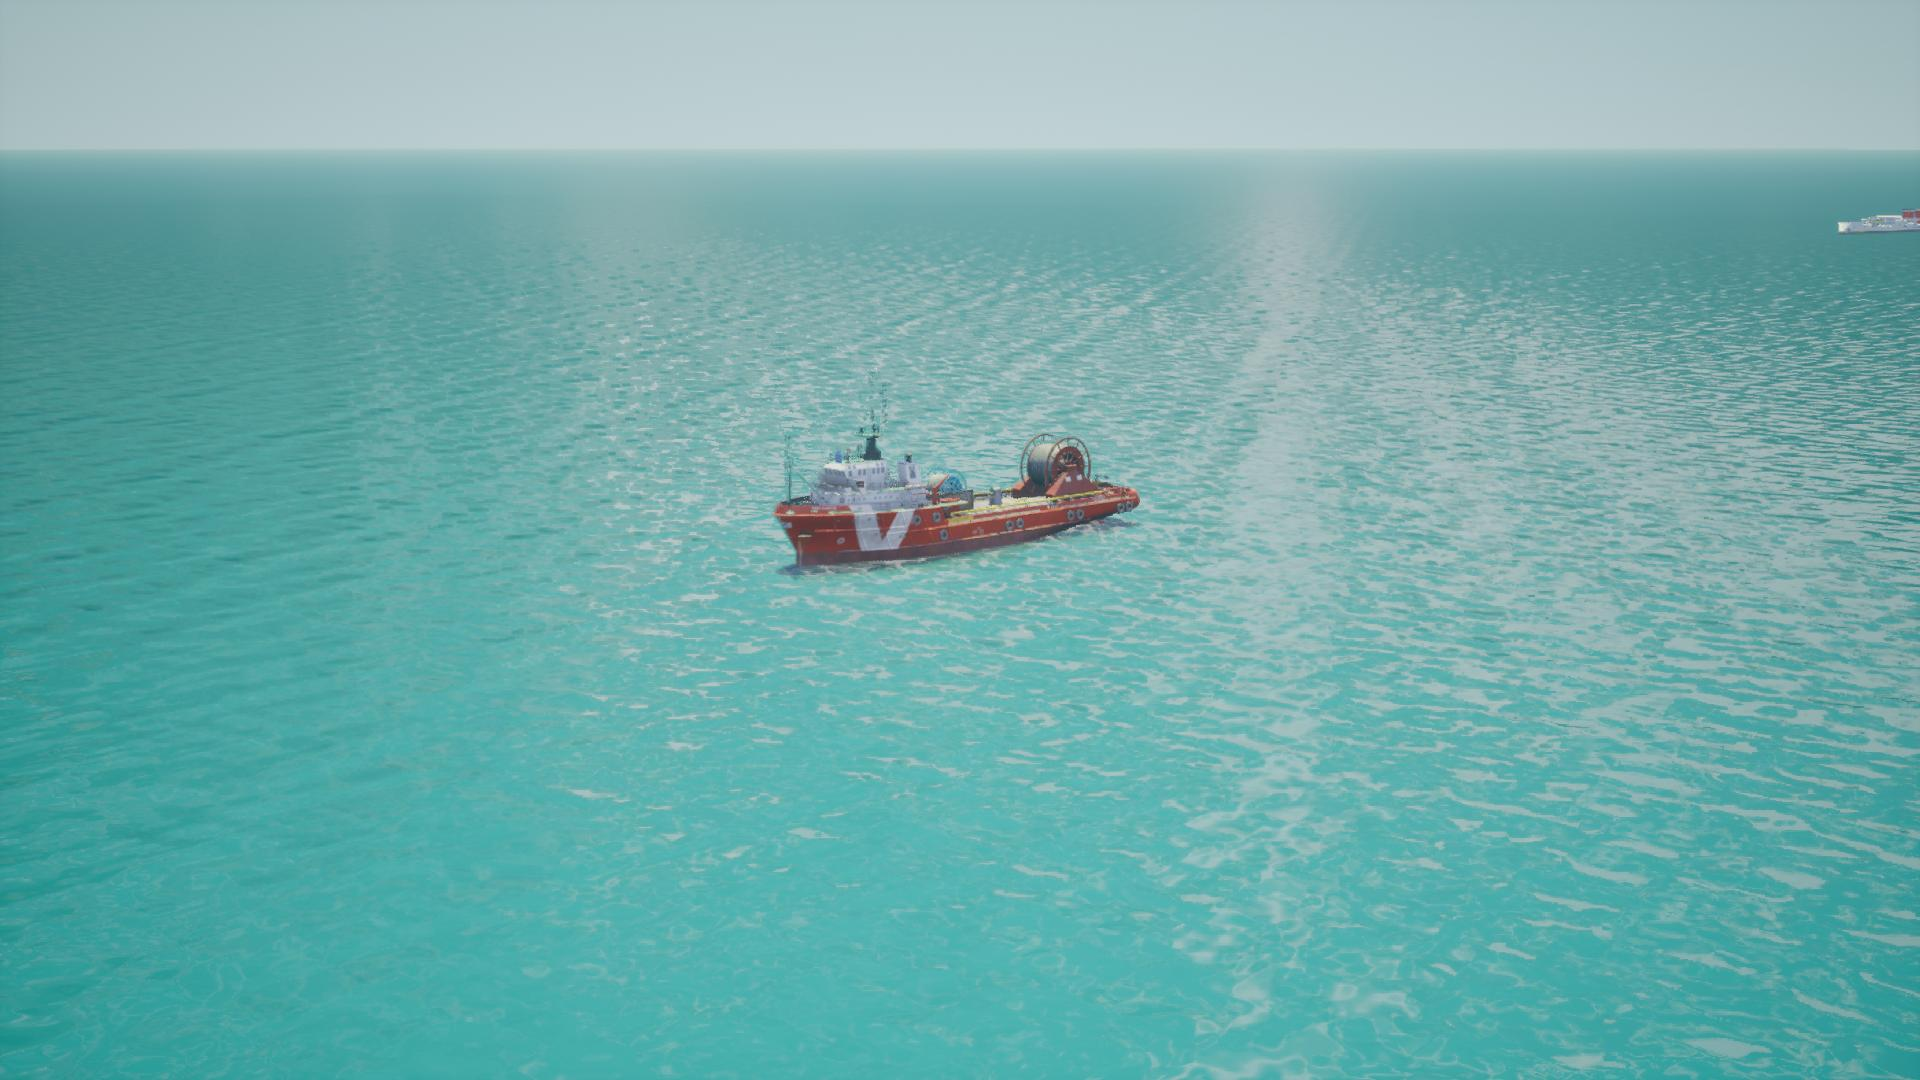Tug Boat: (773, 427, 1138, 571)
